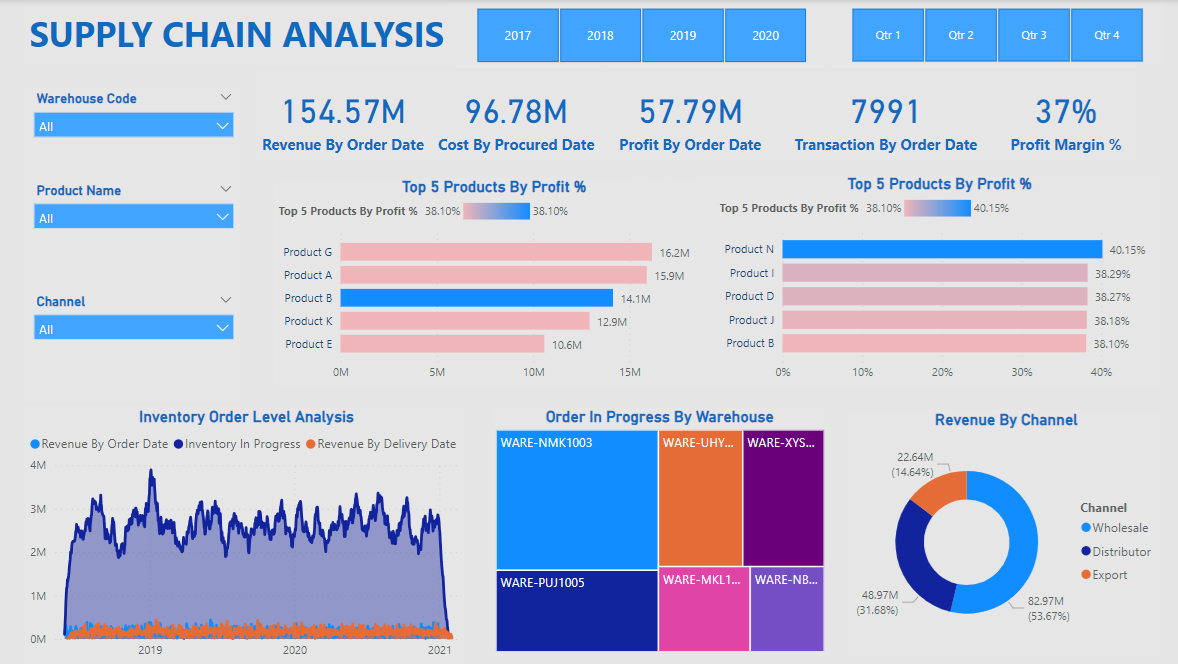

This screenshot's page, from the dashboard's own definition file:
{"tool":"powerbi","page":{"name":"Supply Chain Analysis","canvas":[1280,720],"ordinal":0},"visuals":[{"type":"slicer","fields":{"Values":["Date.Date.Variation.Date Hierarchy.Quarter"]},"box":[898,3.2,362.4,71.2],"z":0},{"type":"slicer","fields":{"Values":["Date.Date.Variation.Date Hierarchy.Year"]},"box":[492.7,3.8,404,71.7],"z":1000},{"type":"card","fields":{"Values":["Specific Calculations.Revenue By Order Date"]},"box":[278.3,77.7,190.9,100.3],"z":2000},{"type":"textbox","box":[30.2,5.7,466.3,66.1],"z":3000},{"type":"areaChart","title":"Inventory Order Level Analysis","fields":{"Y":["Specific Calculations.Revenue By Order Date","Specific Calculations.Inventory In Progress","Specific Calculations.Revenue By Delivery Date"],"Category":["Date.Date"]},"box":[30.7,440.1,478.9,279.9],"z":4000},{"type":"slicer","fields":{"Values":["Warehouse.Warehouse Code"]},"box":[30.7,93.8,236.2,121.3],"z":5000},{"type":"slicer","fields":{"Values":["Products.Product Name"]},"box":[30.7,192.5,236.2,119.7],"z":6000},{"type":"slicer","fields":{"Values":["Sales.Channel"]},"box":[30.7,312.3,236.2,121.3],"z":7000},{"type":"card","fields":{"Values":["Specific Calculations.Cost By Procured Date"]},"box":[469.2,77.7,182.8,100.3],"z":8000},{"type":"card","fields":{"Values":["Specific Calculations.Profit By Order Date"]},"box":[652,77.7,192.5,100.3],"z":9000},{"type":"card","fields":{"Values":["Specific Calculations.Transaction By Order Date"]},"box":[844.6,77.7,229.8,100.3],"z":10000},{"type":"card","fields":{"Values":["Specific Calculations.Profit Margin %"]},"box":[1074.3,77.7,158.6,100.3],"z":11000},{"type":"clusteredBarChart","title":"Top 5 Products By Profit % ","fields":{"Category":["Products.Product Name"],"Y":["Specific Calculations.Top 5 Products By Profit %"]},"box":[775,189.3,485.4,231.4],"z":12000},{"type":"clusteredBarChart","title":"Top 5 Products By Profit % ","fields":{"Category":["Products.Product Name"],"Y":["Specific Calculations.Top 5 Products By Cost"]},"box":[299.3,192.5,475.7,228.1],"z":13000},{"type":"treemap","title":"Order In Progress By Warehouse ","fields":{"Values":["Specific Calculations.Order In Progress"],"Group":["Warehouse.Warehouse Code"]},"box":[533.9,440.1,364,268.6],"z":14000},{"type":"donutChart","title":"Revenue By  Channel","fields":{"Y":["Specific Calculations.Revenue By Order Date"],"Category":["Sales.Channel"]},"box":[919,443.3,341.4,265.3],"z":16000}]}

Visuals, with their boxes in screenshot pixels (x1, y1, x2, y2), scaled from the page's 1280x720 canvas onto the 1178x664 screenshot:
slicer - Date.Date.Variation.Date Hierarchy.Quarter: [826, 3, 1160, 69]
slicer - Date.Date.Variation.Date Hierarchy.Year: [453, 4, 825, 70]
card - Specific Calculations.Revenue By Order Date: [256, 72, 432, 164]
textbox: [28, 5, 457, 66]
"Inventory Order Level Analysis" areaChart: [28, 406, 469, 663]
slicer - Warehouse.Warehouse Code: [28, 87, 246, 198]
slicer - Products.Product Name: [28, 178, 246, 288]
slicer - Sales.Channel: [28, 288, 246, 400]
card - Specific Calculations.Cost By Procured Date: [432, 72, 600, 164]
card - Specific Calculations.Profit By Order Date: [600, 72, 777, 164]
card - Specific Calculations.Transaction By Order Date: [777, 72, 989, 164]
card - Specific Calculations.Profit Margin %: [989, 72, 1135, 164]
"Top 5 Products By Profit % " clusteredBarChart: [713, 175, 1160, 388]
"Top 5 Products By Profit % " clusteredBarChart: [275, 178, 713, 388]
"Order In Progress By Warehouse " treemap: [491, 406, 826, 654]
"Revenue By  Channel" donutChart: [846, 409, 1160, 653]
